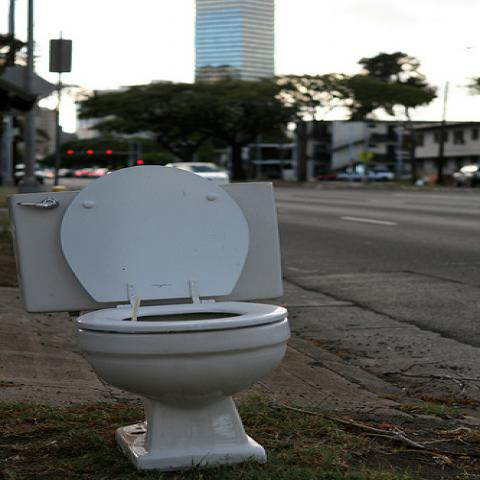car: (163, 162, 232, 184), (452, 171, 479, 187), (367, 170, 396, 182), (336, 172, 365, 179)
